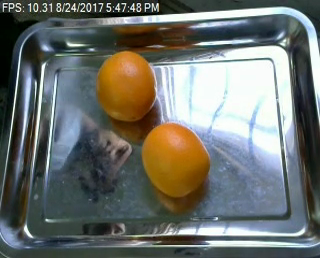Orange: (141, 122, 210, 199), (96, 50, 156, 121)
